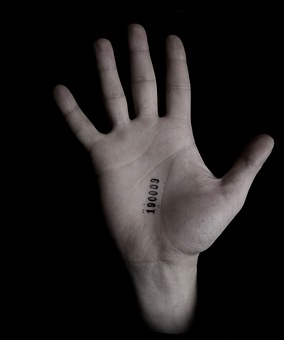palm: (97, 132, 223, 255)
